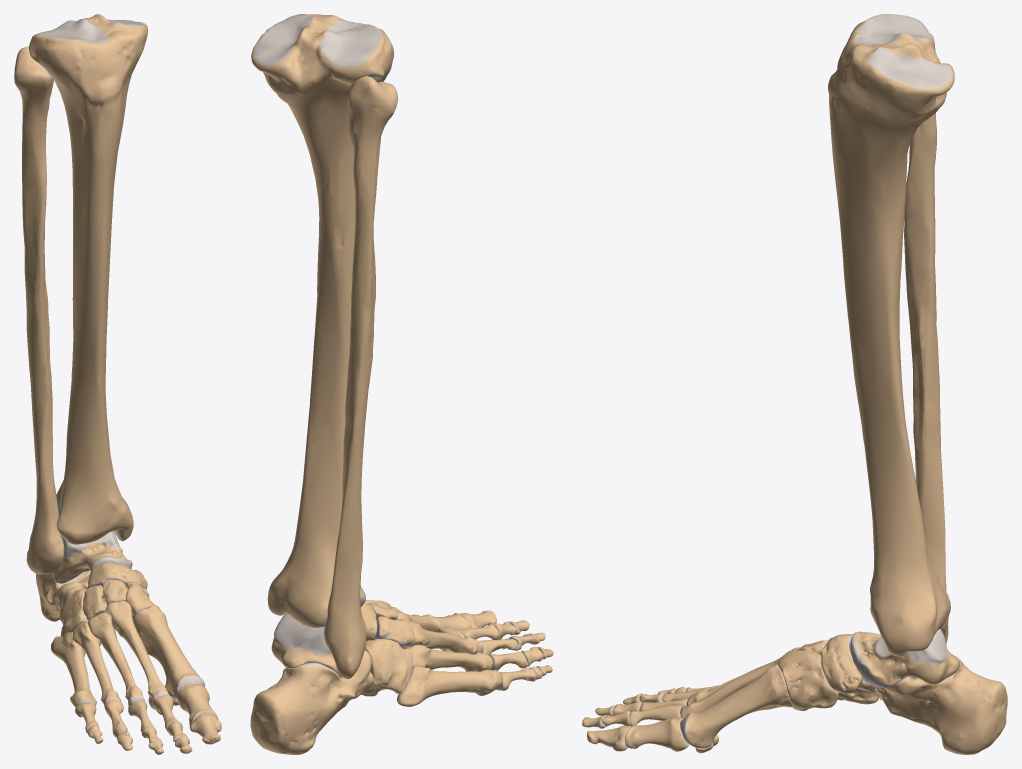
The model's file is bones.glb.
The picture shows the model from 3 angles, left to right: view 1: azimuth 30°, elevation 25°; view 2: azimuth 150°, elevation 25°; view 3: azimuth 270°, elevation 25°; orthographic projection. The views are drawn at different scales.
Visible parts, largest first — view 1: Tibia.r, Fibula.r, First metatarsal bone.r, Talus.r, Second metatarsal bone.r, Fifth metatarsal bone.r, Third metatarsal bone.r, Calcaneus.r, Fourth metatarsal bone.r, Navicular bone.r, Proximal phalanx of first finger of foot.r, Cuboid bone.r (+8 smaller); view 2: Tibia.r, Fibula.r, Calcaneus.r, Fifth metatarsal bone.r, Talus.r, Cuboid bone.r, Fourth metatarsal bone.r, Third metatarsal bone.r, Lateral cuneiform bone.r, Second metatarsal bone.r; view 3: Tibia.r, Fibula.r, Calcaneus.r, Talus.r, First metatarsal bone.r, Medial cuneiform bone.r, Navicular bone.r, Proximal phalanx of first finger of foot.r, Second metatarsal bone.r, Distal phalanx of first finger of foot.r.
Part boxes in pixels (x1,y1,x2,y2): Tibia.r: [29, 14, 147, 544]; Fibula.r: [14, 46, 64, 574]; First metatarsal bone.r: [133, 605, 204, 699]; Talus.r: [51, 531, 132, 583]; Second metatarsal bone.r: [105, 601, 169, 709]; Fifth metatarsal bone.r: [51, 632, 96, 706]; Third metatarsal bone.r: [88, 612, 145, 707]; Calcaneus.r: [36, 570, 90, 621]; Fourth metatarsal bone.r: [72, 622, 121, 705]; Navicular bone.r: [87, 562, 147, 589]; Proximal phalanx of first finger of foot.r: [177, 683, 218, 725]; Cuboid bone.r: [59, 587, 88, 636]; Tibia.r: [251, 14, 394, 627]; Fibula.r: [324, 76, 397, 679]; Calcaneus.r: [250, 650, 373, 754]; Fifth metatarsal bone.r: [397, 666, 502, 706]; Talus.r: [271, 613, 341, 677]; Cuboid bone.r: [363, 638, 412, 696]; Fourth metatarsal bone.r: [405, 645, 493, 671]; Third metatarsal bone.r: [401, 621, 483, 654]; Lateral cuneiform bone.r: [374, 616, 414, 647]; Second metatarsal bone.r: [390, 607, 464, 651]; Tibia.r: [828, 14, 954, 656]; Fibula.r: [904, 33, 948, 643]; Calcaneus.r: [876, 656, 1007, 754]; Talus.r: [850, 628, 960, 688]; First metatarsal bone.r: [680, 664, 791, 748]; Medial cuneiform bone.r: [778, 650, 839, 710]; Navicular bone.r: [820, 634, 862, 693]; Proximal phalanx of first finger of foot.r: [624, 717, 688, 751]; Second metatarsal bone.r: [680, 647, 800, 718]; Distal phalanx of first finger of foot.r: [587, 725, 630, 751].
Bounding box in the file's own units: 0.1092 × 0.4241 × 0.2289.
